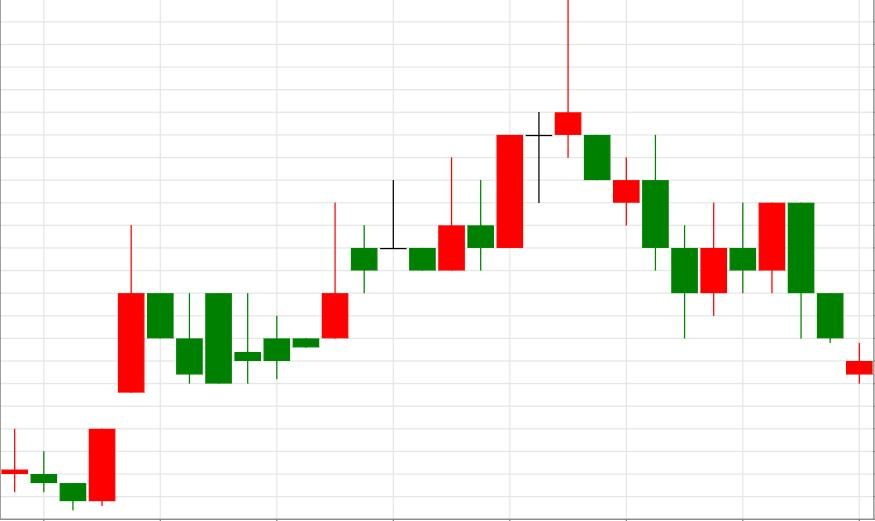shooting_star_fall: (322, 0, 582, 339)
